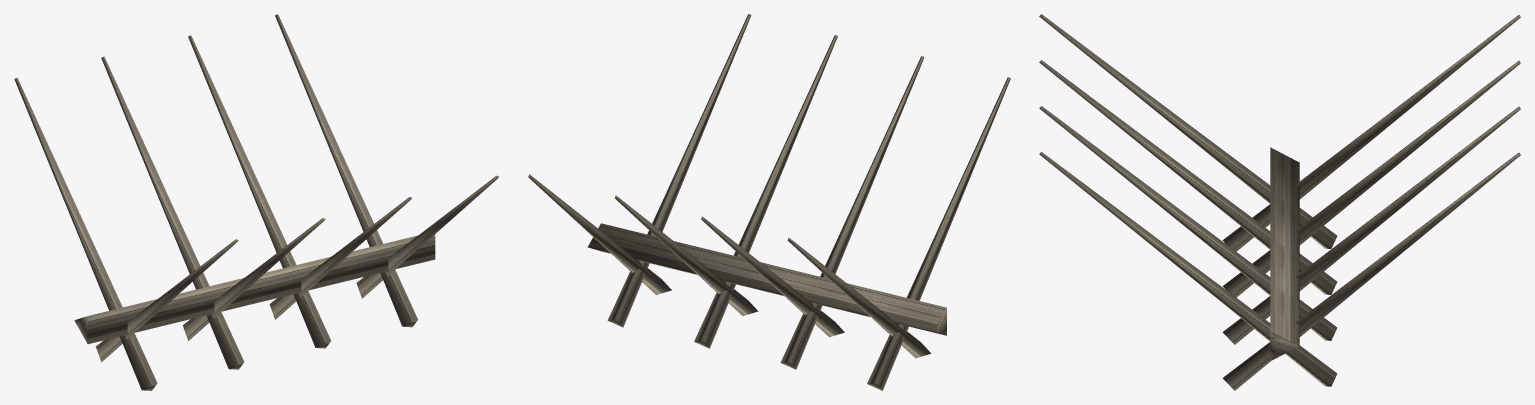
The model's file is Stakes_Chevaux_1_LOD2.gltf.
The picture shows the model from 3 angles, left to right: view 1: azimuth 30°, elevation 25°; view 2: azimuth 150°, elevation 25°; view 3: azimuth 270°, elevation 25°; orthographic projection. The views are drawn at different scales.
Parts seen in each view (by area): view 1: Stakes_Chevaux_1_LOD2; view 2: Stakes_Chevaux_1_LOD2; view 3: Stakes_Chevaux_1_LOD2.
Boxes of the visible parts, left/top/right/bottom form: Stakes_Chevaux_1_LOD2: left=14, top=14, right=499, bottom=390; Stakes_Chevaux_1_LOD2: left=528, top=14, right=1010, bottom=390; Stakes_Chevaux_1_LOD2: left=1039, top=14, right=1520, bottom=390.
Bounding box in the file's own units: 4 × 2.4 × 4.44.
1 material, 1 textured.
